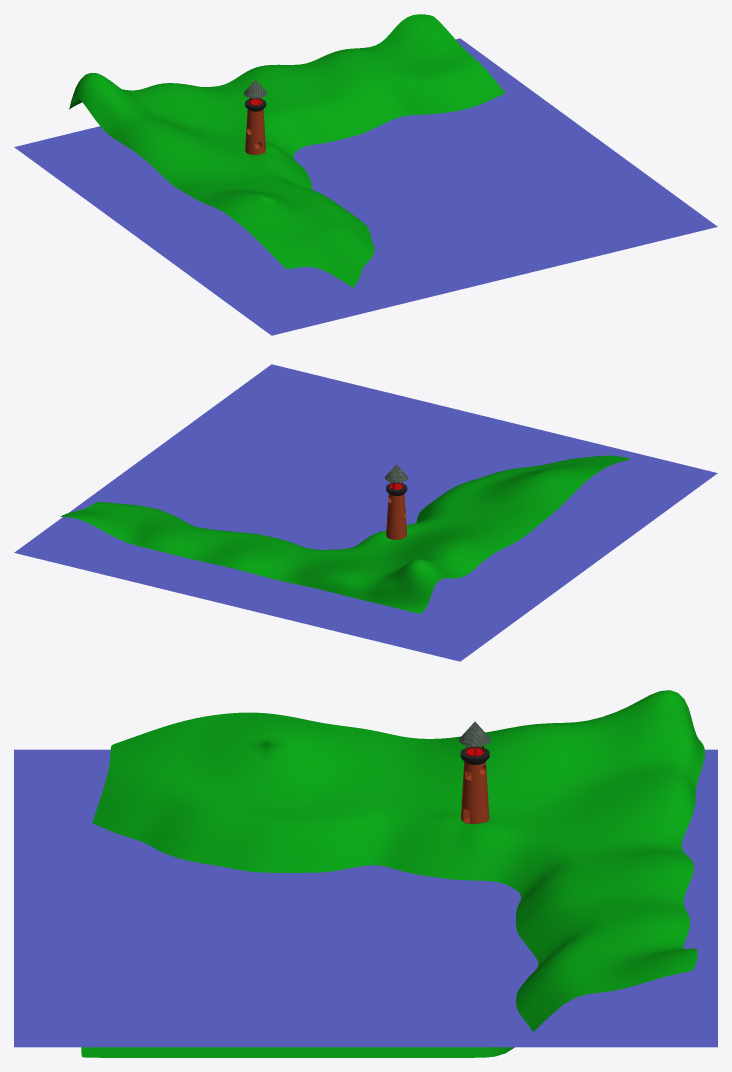
Rendered from krajobrazN.obj.
3 views of the same model, one above another, from view 1: azimuth 30°, elevation 25°; view 2: azimuth 150°, elevation 25°; view 3: azimuth 270°, elevation 25° (orthographic). The views are drawn at different scales.
Parts seen in each view (by area): view 1: Sea_Plane.001, Terrain_Plane, Lighthouse_Circle.001; view 2: Sea_Plane.001, Terrain_Plane, Lighthouse_Circle.001; view 3: Sea_Plane.001, Terrain_Plane, Lighthouse_Circle.001.
Boxes of the visible parts, x1,y1,x2,y2 form: Sea_Plane.001: (14, 38, 717, 335); Terrain_Plane: (69, 14, 505, 287); Lighthouse_Circle.001: (244, 80, 267, 154); Sea_Plane.001: (14, 364, 717, 661); Terrain_Plane: (60, 455, 630, 613); Lighthouse_Circle.001: (385, 464, 408, 539); Sea_Plane.001: (14, 749, 717, 1047); Terrain_Plane: (81, 690, 704, 1057); Lighthouse_Circle.001: (459, 721, 490, 823).
Size of the model in its own units: 24.44 by 5.78 by 24.44.
